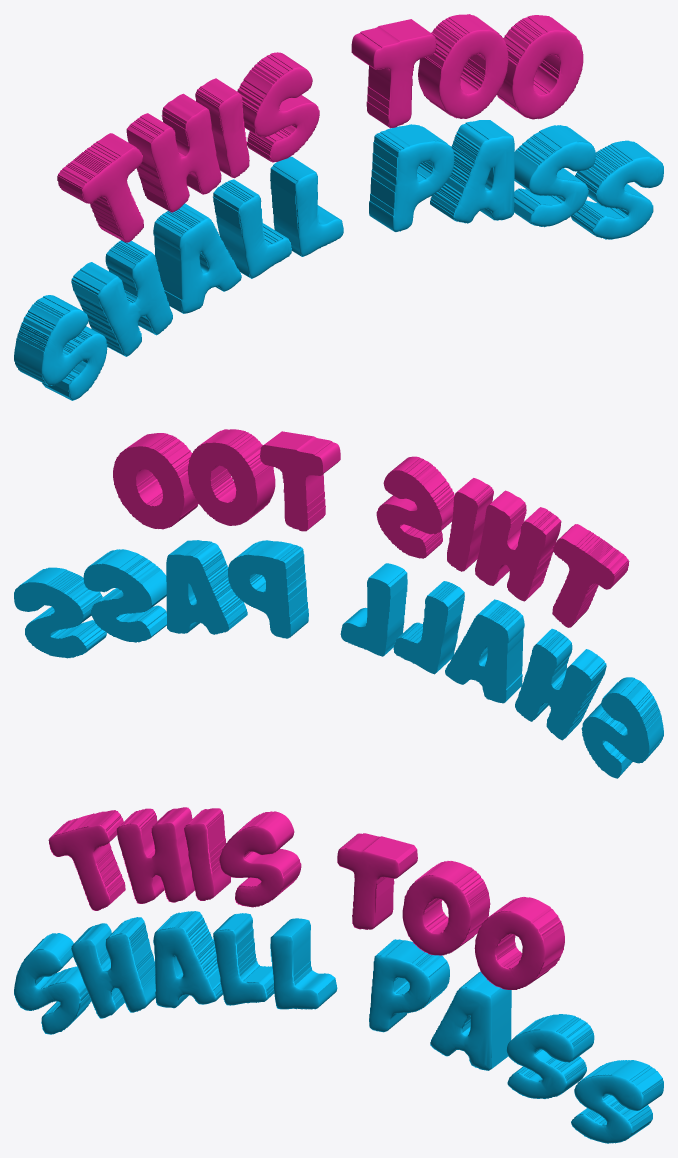
File: HandRainbowTextsy.gltf
3 views of the same model, one above another, from view 1: azimuth 30°, elevation 25°; view 2: azimuth 150°, elevation 25°; view 3: azimuth 330°, elevation 25° (orthographic). The views are drawn at different scales.
Visible parts, largest first — view 1: Shall Pass 2, This too 2; view 2: Shall Pass 2, This too 2; view 3: Shall Pass 2, This too 2.
Part boxes in pixels (box(x1,y1,x2,y2)): Shall Pass 2: box(14, 120, 663, 400); This too 2: box(57, 14, 583, 242); Shall Pass 2: box(14, 540, 663, 778); This too 2: box(113, 429, 629, 627); Shall Pass 2: box(14, 911, 663, 1143); This too 2: box(48, 807, 564, 989).
Bounding box in the file's own units: 0.3916 × 0.1578 × 0.052.
